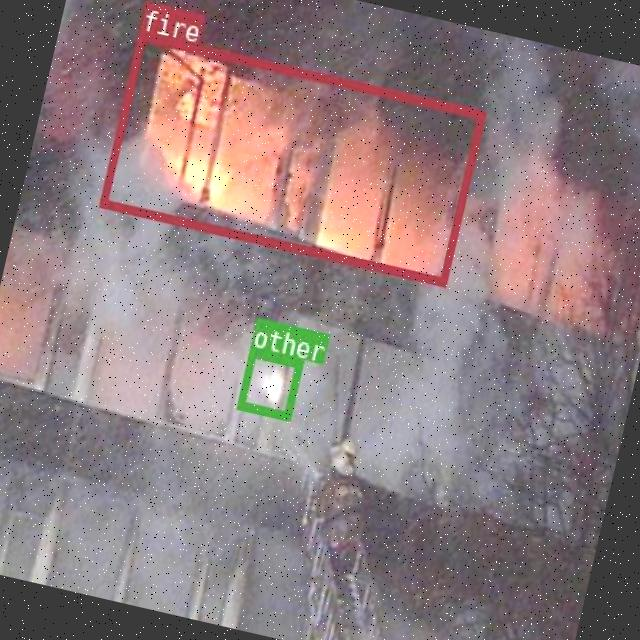fire: (98, 30, 484, 284)
